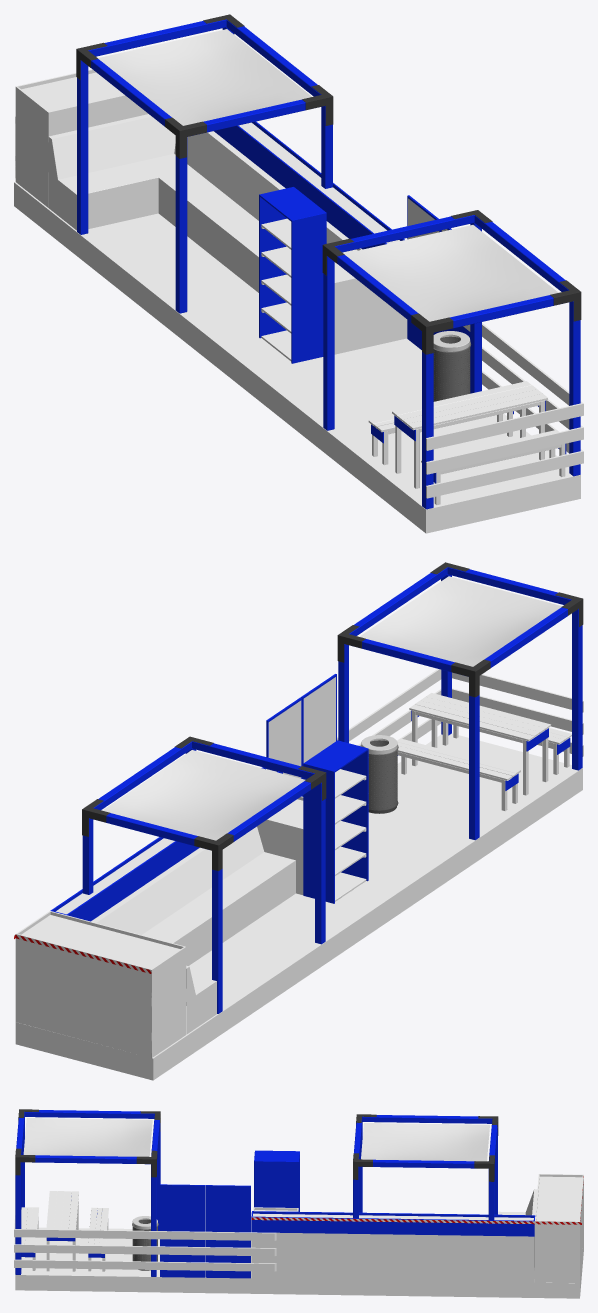
The model's file is parklet_centered.glb.
3 renders of one model, top to bottom at view 1: azimuth 30°, elevation 25°; view 2: azimuth 150°, elevation 25°; view 3: azimuth 270°, elevation 25°, orthographic. The views are drawn at different scales.
Visible parts, largest first — view 1: ASCEND_Parklet_2024.007, ASCEND_Parklet_2024.022_1, ASCEND_Parklet_2024, ASCEND_Parklet_2024.006, ASCEND_Parklet_2024.017, ASCEND_Parklet_2024.034, ASCEND_Parklet_2024.008, ASCEND_Parklet_2024.033, ASCEND_Parklet_2024.014, ASCEND_Parklet_2024.009, ASCEND_Parklet_2024.018, ASCEND_Parklet_2024.019 (+8 smaller); view 2: ASCEND_Parklet_2024.007, ASCEND_Parklet_2024.022_1, ASCEND_Parklet_2024.021, ASCEND_Parklet_2024.006, ASCEND_Parklet_2024.034, ASCEND_Parklet_2024.017, ASCEND_Parklet_2024.008, ASCEND_Parklet_2024.033, ASCEND_Parklet_2024, ASCEND_Parklet_2024.014, ASCEND_Parklet_2024.018, ASCEND_Parklet_2024.012 (+10 smaller); view 3: ASCEND_Parklet_2024.020, ASCEND_Parklet_2024.006, ASCEND_Parklet_2024, ASCEND_Parklet_2024.019, ASCEND_Parklet_2024.017, ASCEND_Parklet_2024.034, ASCEND_Parklet_2024.007, ASCEND_Parklet_2024.008, ASCEND_Parklet_2024.024, ASCEND_Parklet_2024.004, ASCEND_Parklet_2024.033, ASCEND_Parklet_2024.018 (+14 smaller).
Part boxes in pixels (x1=…): ASCEND_Parklet_2024.007: x1=14, y1=182, x2=580, y2=513; ASCEND_Parklet_2024.022_1: x1=48, y1=114, x2=348, y2=292; ASCEND_Parklet_2024: x1=334, y1=248, x2=583, y2=498; ASCEND_Parklet_2024.006: x1=14, y1=186, x2=580, y2=533; ASCEND_Parklet_2024.017: x1=344, y1=225, x2=558, y2=321; ASCEND_Parklet_2024.034: x1=98, y1=29, x2=311, y2=125; ASCEND_Parklet_2024.008: x1=323, y1=215, x2=580, y2=509; ASCEND_Parklet_2024.033: x1=77, y1=19, x2=332, y2=313; ASCEND_Parklet_2024.014: x1=259, y1=187, x2=326, y2=363; ASCEND_Parklet_2024.009: x1=392, y1=381, x2=547, y2=488; ASCEND_Parklet_2024.018: x1=21, y1=72, x2=399, y2=281; ASCEND_Parklet_2024.019: x1=214, y1=121, x2=404, y2=249; ASCEND_Parklet_2024.007: x1=15, y1=733, x2=582, y2=1061; ASCEND_Parklet_2024.022_1: x1=91, y1=826, x2=295, y2=1005; ASCEND_Parklet_2024.021: x1=17, y1=956, x2=216, y2=1057; ASCEND_Parklet_2024.006: x1=15, y1=772, x2=582, y2=1080; ASCEND_Parklet_2024.034: x1=102, y1=750, x2=305, y2=840; ASCEND_Parklet_2024.017: x1=359, y1=576, x2=562, y2=666; ASCEND_Parklet_2024.008: x1=338, y1=567, x2=582, y2=840; ASCEND_Parklet_2024.033: x1=82, y1=741, x2=325, y2=1013; ASCEND_Parklet_2024: x1=257, y1=669, x2=583, y2=894; ASCEND_Parklet_2024.014: x1=303, y1=740, x2=368, y2=903; ASCEND_Parklet_2024.018: x1=21, y1=769, x2=303, y2=968; ASCEND_Parklet_2024.012: x1=16, y1=911, x2=186, y2=991; ASCEND_Parklet_2024.020: x1=251, y1=1232, x2=534, y2=1282; ASCEND_Parklet_2024.006: x1=15, y1=1239, x2=583, y2=1298; ASCEND_Parklet_2024: x1=14, y1=1207, x2=298, y2=1271; ASCEND_Parklet_2024.019: x1=251, y1=1211, x2=535, y2=1236; ASCEND_Parklet_2024.017: x1=23, y1=1118, x2=152, y2=1156; ASCEND_Parklet_2024.034: x1=361, y1=1123, x2=489, y2=1161; ASCEND_Parklet_2024.007: x1=15, y1=1227, x2=583, y2=1285; ASCEND_Parklet_2024.008: x1=15, y1=1110, x2=160, y2=1276; ASCEND_Parklet_2024.024: x1=160, y1=1184, x2=205, y2=1277; ASCEND_Parklet_2024.004: x1=205, y1=1185, x2=250, y2=1278; ASCEND_Parklet_2024.033: x1=353, y1=1115, x2=497, y2=1220; ASCEND_Parklet_2024.018: x1=252, y1=1176, x2=582, y2=1221.
Bounding box in the file's own units: 2.35 × 2.6 × 10.09.
